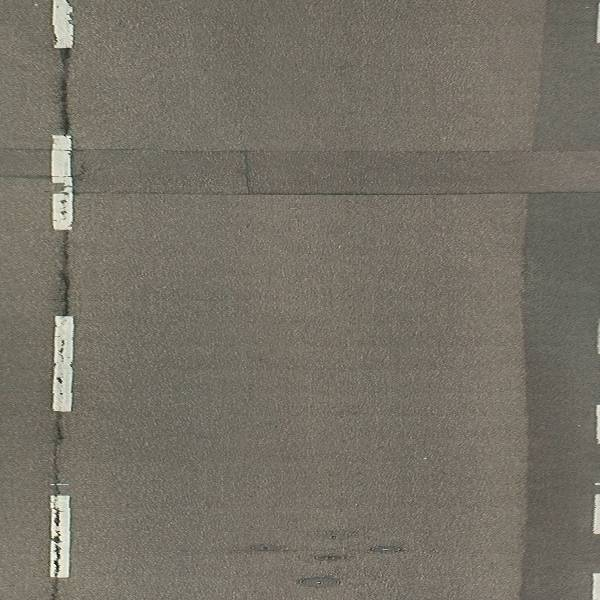road_damage: (92, 145, 600, 200), (103, 187, 530, 199), (58, 230, 76, 320)
